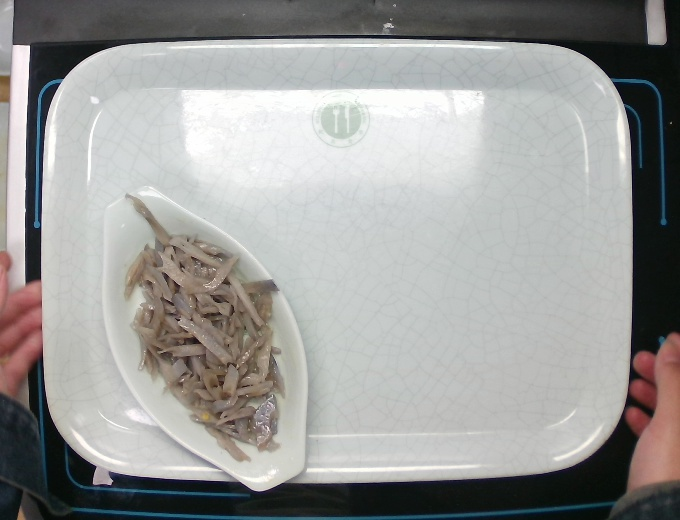JYsf-Yu_Pan: (93, 180, 313, 496)
